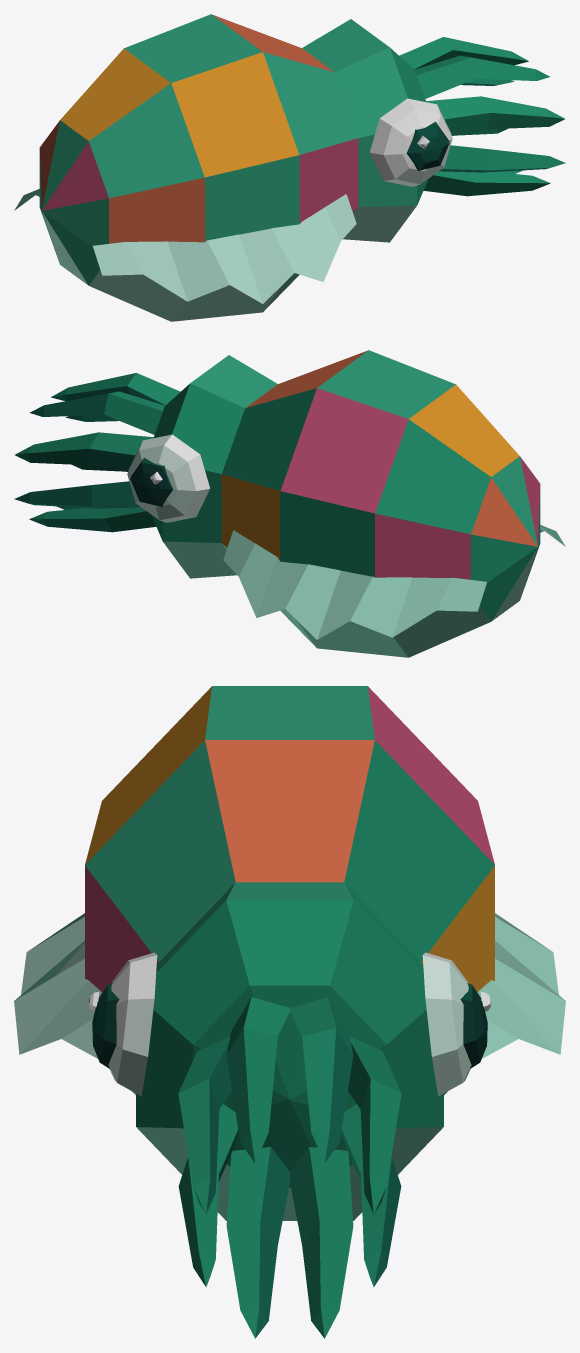
Rendered from cuttlefish.glb.
The picture shows the model from 3 angles, top to bottom: view 1: azimuth 30°, elevation 25°; view 2: azimuth 150°, elevation 25°; view 3: azimuth 270°, elevation 25°; orthographic projection. The views are drawn at different scales.
Parts seen in each view (by area): view 1: cuttlefish; view 2: cuttlefish; view 3: cuttlefish.
Part boxes in pixels (x1,y1,x2,y2): cuttlefish: (14,14,565,321); cuttlefish: (14,350,565,657); cuttlefish: (14,686,565,1338).
Bounding box in the file's own units: 3.07 × 1.53 × 1.79.
